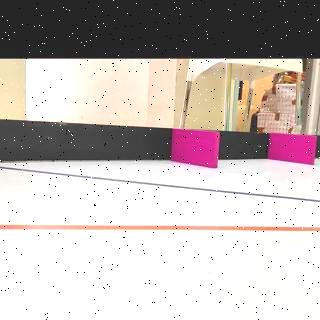xparking: (176, 132, 218, 162), (272, 134, 316, 159)
